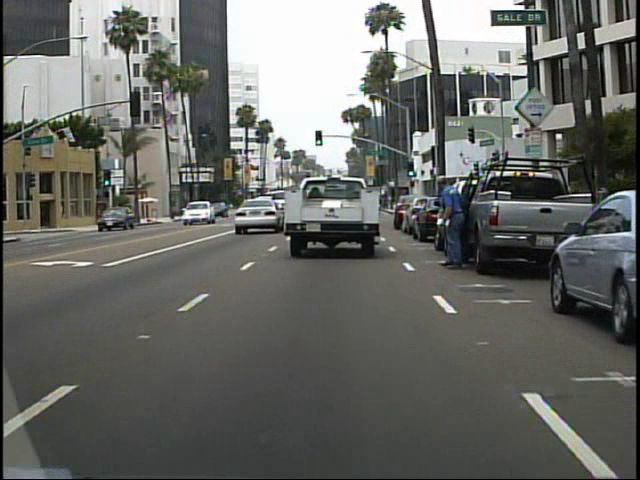person: (426, 173, 476, 276)
